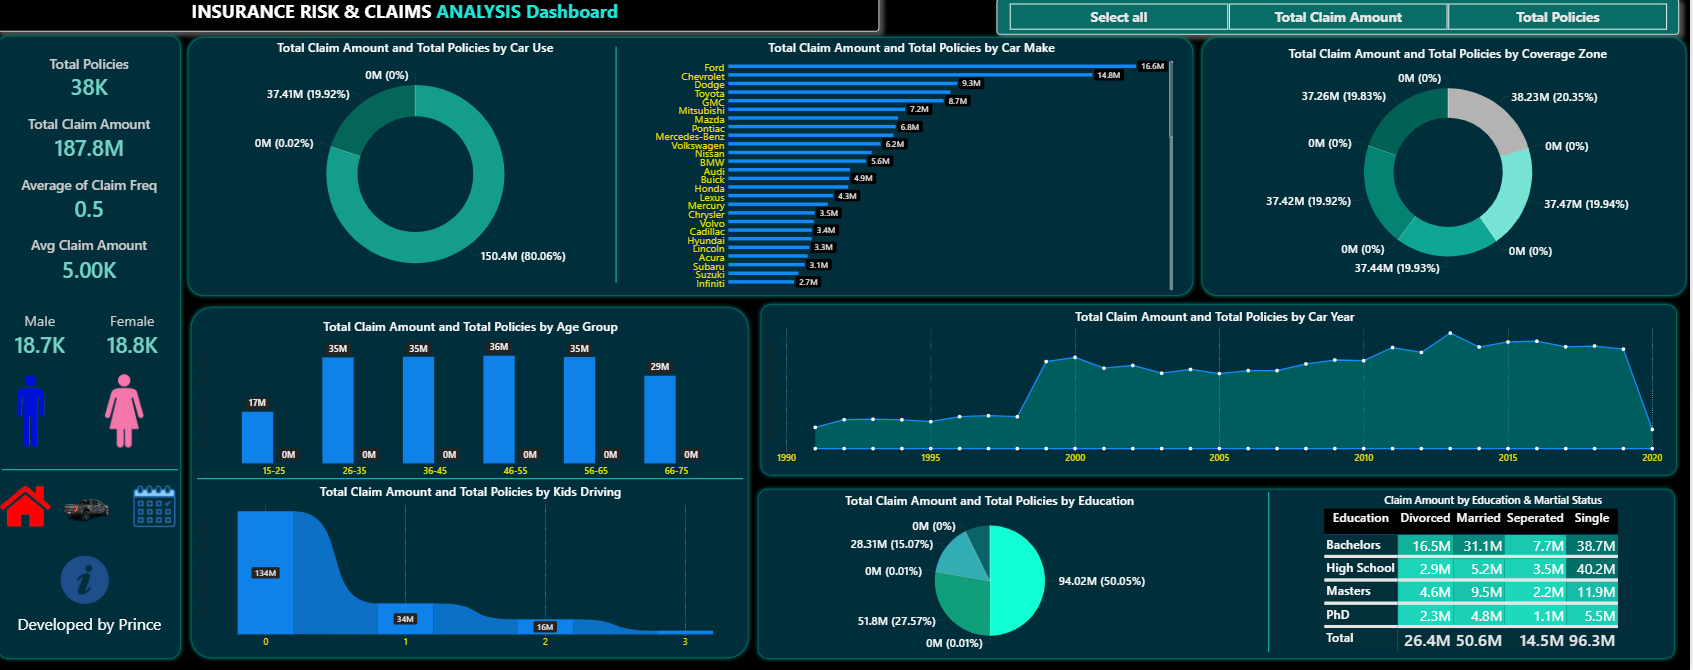

The page's visual inventory and layout, read from the dashboard file:
{"tool":"powerbi","page":{"name":"Consolidate","canvas":[4000,1600],"ordinal":0},"visuals":[{"type":"textbox","box":[12.1,0,2078,88.8],"z":0},{"type":"shape","box":[0,88.4,452.4,1488.1],"z":1000},{"type":"cardVisual","fields":{"Data":["insurance_data_car.Total Policies","insurance_data_car.Total Claim Amount","Avg(insurance_data_car.Claim Freq)","insurance_data_car.Avg Claim Amount"]},"box":[40.3,125.1,375.3,577],"z":2000},{"type":"cardVisual","fields":{"Data":["insurance_data_car.Male Count","insurance_data_car.Female Count"]},"box":[0,728.1,438.3,144.9],"z":3000},{"type":"slicer","fields":{"Values":[" Select Measure. Select Measure"]},"box":[2365.9,9.5,1608.8,85.2],"z":4000},{"type":"shape","box":[448.9,91.9,2389.5,629.2],"z":5000},{"type":"donutChart","fields":{"Y":["insurance_data_car.Total Claim Amount","insurance_data_car.Total Policies"],"Category":["insurance_data_car.Car Use"]},"box":[480.7,106,1028.6,597.4],"z":6000},{"type":"clusteredBarChart","fields":{"Y":["insurance_data_car.Total Claim Amount","insurance_data_car.Total Policies"],"Category":["insurance_data_car.Car Make"]},"box":[1544.7,106,1240.7,597.4],"z":7000},{"type":"shape","box":[2836.6,92.8,1162.1,629.5],"z":8000},{"type":"donutChart","fields":{"Y":["insurance_data_car.Total Claim Amount","insurance_data_car.Total Policies"],"Category":["insurance_data_car.Coverage Zone"]},"box":[2889.1,121,1081.4,560.9],"z":9000},{"type":"shape","box":[454.3,728.7,1334.4,847],"z":10000},{"type":"clusteredColumnChart","fields":{"Y":["insurance_data_car.Total Claim Amount","insurance_data_car.Total Policies"],"Category":["insurance_data_car.Age Group"]},"box":[484.3,763.5,1283.1,385.3],"z":11000},{"type":"ribbonChart","fields":{"Y":["insurance_data_car.Total Claim Amount","insurance_data_car.Total Policies"],"Category":["insurance_data_car.Kids Driving"]},"box":[484.3,1152.3,1283.1,399.4],"z":12000},{"type":"shape","box":[1799.6,722.3,2178.9,423.7],"z":13000},{"type":"lineChart","fields":{"Y":["insurance_data_car.Total Claim Amount","insurance_data_car.Total Policies"],"Category":["insurance_data_car.Car Year"]},"box":[1819.8,738.4,2118.4,379.3],"z":14000},{"type":"shape","box":[1793.4,1154.6,2181.4,421.1],"z":15000},{"type":"pieChart","fields":{"Y":["insurance_data_car.Total Claim Amount","insurance_data_car.Total Policies"],"Category":["insurance_data_car.Education"]},"box":[1820.4,1173.5,1056.9,378.2],"z":16000},{"type":"pivotTable","title":"Claim Amount by Education & Martial Status","fields":{"Columns":["insurance_data_car.Marital Status"],"Rows":["insurance_data_car.Education"],"Values":["insurance_data_car.Total Claim Amount"]},"box":[3131.7,1173.5,805.9,381.7],"z":17000},{"type":"shape","box":[1343.7,125.1,250.2,556.8],"z":18000},{"type":"shape","box":[2916.1,1173.5,180.3,378.2],"z":19000},{"type":"shape","box":[480.2,1109.6,1287.2,64.6],"z":20000},{"type":"shape","box":[20.2,1089.4,415.6,64.6],"z":21000},{"type":"image","box":[219.2,890.7,180,183],"z":22000},{"type":"image","box":[0,894.3,180.3,183.8],"z":23000},{"type":"textbox","box":[28.2,1452.6,387.4,100.9],"z":24000},{"type":"image","box":[10.6,1141.7,130.8,130.8],"z":25000},{"type":"image","box":[108.9,1307.3,213.9,145.3],"z":26000},{"type":"image","box":[141.4,1141.7,162.6,130.8],"z":27000},{"type":"image","box":[325.2,1141.7,109.6,130.8],"z":29000}]}

Visuals, with their boxes in screenshot pixels (x1, y1, x2, y2), scaled from the page's 4000x1600 canvas onto the 1693x670 screenshot:
textbox: select_region(5, 0, 885, 37)
shape: select_region(0, 37, 191, 660)
cardVisual - insurance_data_car.Total Policies x insurance_data_car.Total Claim Amount: select_region(17, 52, 176, 294)
cardVisual - insurance_data_car.Male Count x insurance_data_car.Female Count: select_region(0, 305, 186, 366)
slicer -  Select Measure. Select Measure: select_region(1001, 4, 1682, 40)
shape: select_region(190, 38, 1201, 302)
donutChart - insurance_data_car.Total Claim Amount x insurance_data_car.Total Policies: select_region(203, 44, 639, 295)
clusteredBarChart - insurance_data_car.Total Claim Amount x insurance_data_car.Total Policies: select_region(654, 44, 1179, 295)
shape: select_region(1201, 39, 1692, 302)
donutChart - insurance_data_car.Total Claim Amount x insurance_data_car.Total Policies: select_region(1223, 51, 1681, 286)
shape: select_region(192, 305, 757, 660)
clusteredColumnChart - insurance_data_car.Total Claim Amount x insurance_data_car.Total Policies: select_region(205, 320, 748, 481)
ribbonChart - insurance_data_car.Total Claim Amount x insurance_data_car.Total Policies: select_region(205, 483, 748, 650)
shape: select_region(762, 302, 1684, 480)
lineChart - insurance_data_car.Total Claim Amount x insurance_data_car.Total Policies: select_region(770, 309, 1667, 468)
shape: select_region(759, 483, 1682, 660)
pieChart - insurance_data_car.Total Claim Amount x insurance_data_car.Total Policies: select_region(770, 491, 1218, 650)
"Claim Amount by Education & Martial Status" pivotTable: select_region(1325, 491, 1667, 651)
shape: select_region(569, 52, 675, 286)
shape: select_region(1234, 491, 1311, 650)
shape: select_region(203, 465, 748, 492)
shape: select_region(9, 456, 184, 483)
image: select_region(93, 373, 169, 450)
image: select_region(0, 374, 76, 451)
textbox: select_region(12, 608, 176, 651)
image: select_region(4, 478, 60, 533)
image: select_region(46, 547, 137, 608)
image: select_region(60, 478, 129, 533)
image: select_region(138, 478, 184, 533)
